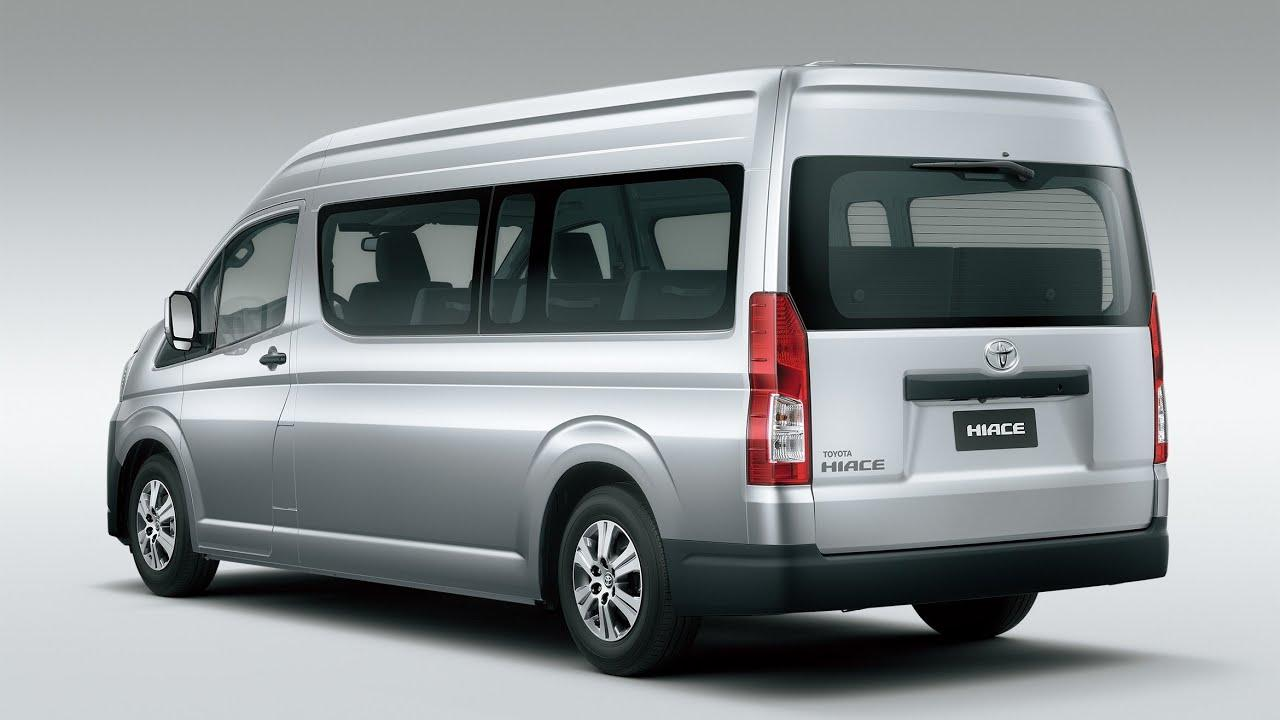van: (103, 58, 1168, 680)
